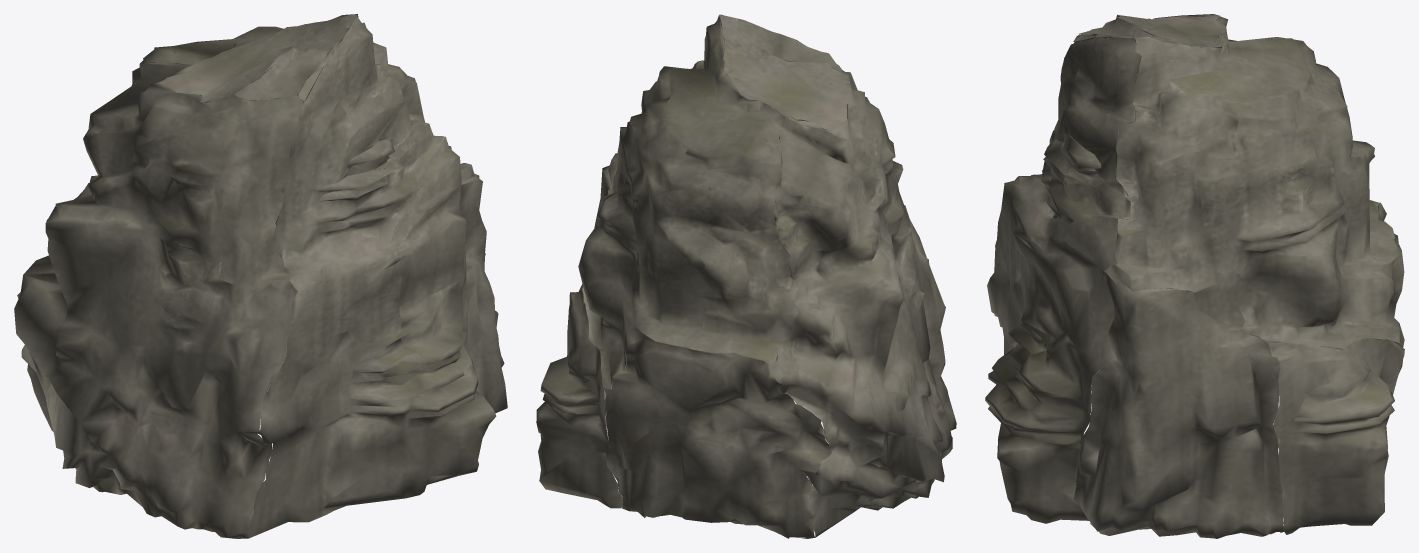
File: a32_cliff_b.glb
3 renders of one model, left to right at view 1: azimuth 30°, elevation 25°; view 2: azimuth 150°, elevation 25°; view 3: azimuth 270°, elevation 25°, orthographic. The views are drawn at different scales.
Parts seen in each view (by area): view 1: body; view 2: body; view 3: body.
Part boxes in pixels (left/top/right/bottom): body: left=14, top=14, right=507, bottom=538; body: left=536, top=14, right=956, bottom=538; body: left=985, top=14, right=1404, bottom=538.
Size of the model in its own units: 1 by 1.02 by 0.8535.
Materials: 1 (1 with a texture image).
